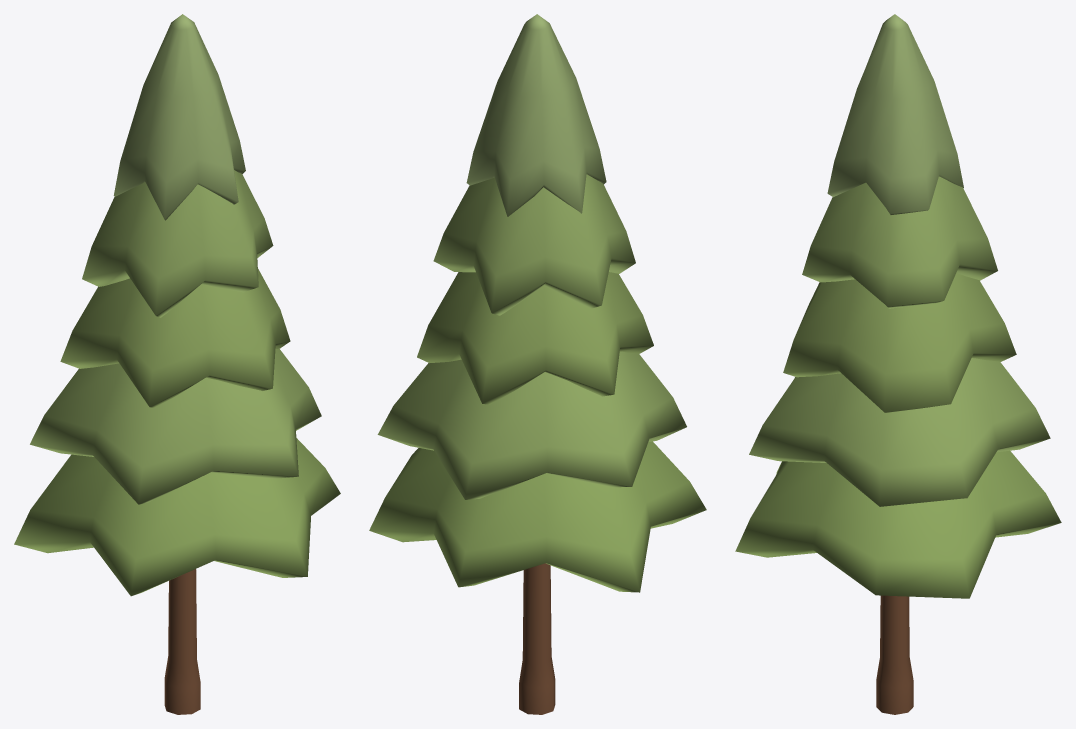
File: larch_small.glb
3 views of the same model, side by side, from view 1: azimuth 30°, elevation 25°; view 2: azimuth 150°, elevation 25°; view 3: azimuth 270°, elevation 25° (orthographic).
Parts seen in each view (by area): view 1: body; view 2: body; view 3: body.
Boxes of the visible parts, box(x1,y1,x2,y2) form: body: box(14, 14, 340, 714); body: box(369, 14, 706, 714); body: box(735, 14, 1061, 714).
Bounding box in the file's own units: 3.3 × 7.69 × 3.28.
